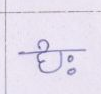anusvara: (37, 39, 50, 51)
